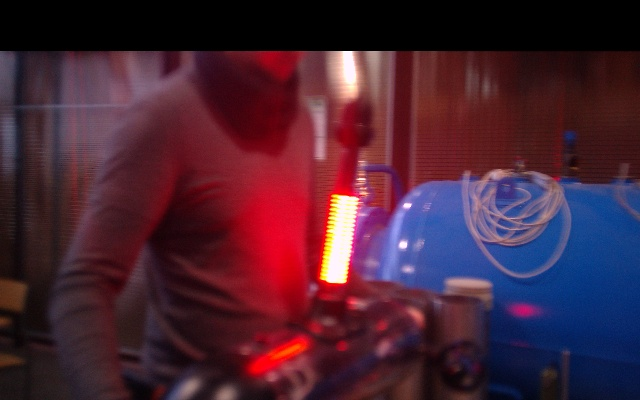red: (318, 194, 359, 286)
